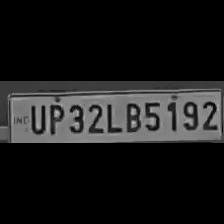1: (162, 98, 178, 132)
2: (199, 98, 219, 132), (85, 100, 103, 134)
3: (66, 102, 84, 134)
5: (140, 98, 162, 132)
9: (179, 98, 199, 132)
B: (122, 100, 140, 132)
L: (104, 100, 120, 134)
P: (46, 101, 64, 135)
U: (27, 102, 46, 134)
